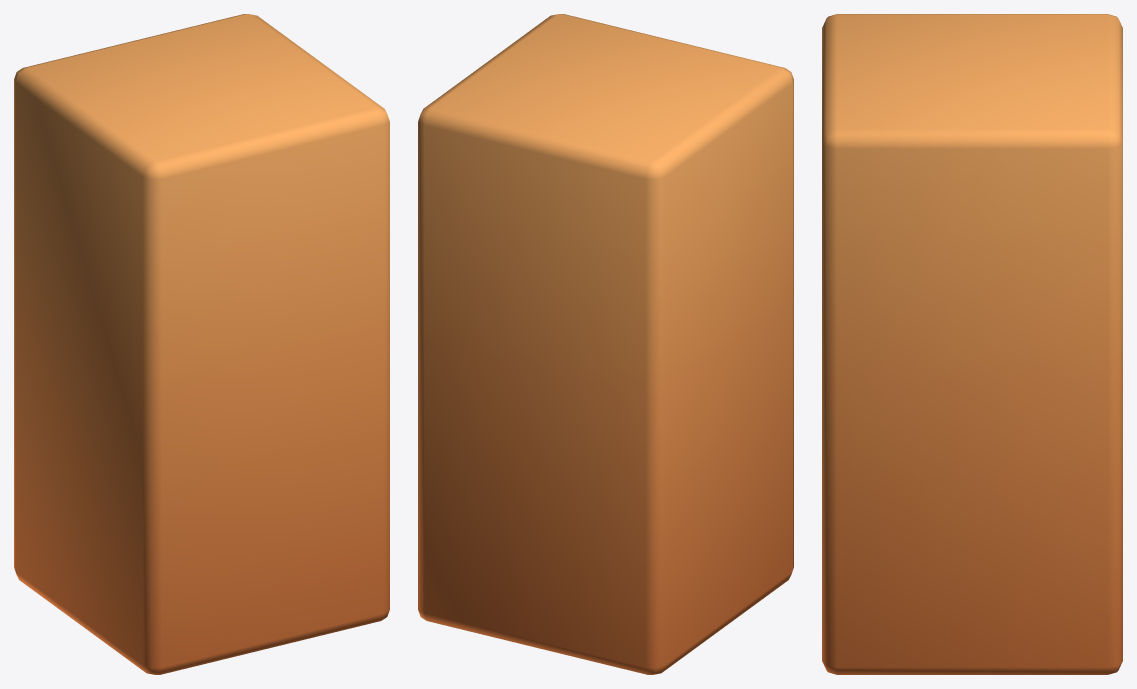
Rendered from 3D_Tile_Ground_02x2.fbx.
The picture shows the model from 3 angles, left to right: view 1: azimuth 30°, elevation 25°; view 2: azimuth 150°, elevation 25°; view 3: azimuth 270°, elevation 25°; orthographic projection. The views are drawn at different scales.
Visible parts, largest first — view 1: 3D_Tile_Ground_02x2; view 2: 3D_Tile_Ground_02x2; view 3: 3D_Tile_Ground_02x2.
Boxes of the visible parts, x1=… form: 3D_Tile_Ground_02x2: x1=14, y1=14, x2=389, y2=674; 3D_Tile_Ground_02x2: x1=418, y1=14, x2=793, y2=674; 3D_Tile_Ground_02x2: x1=822, y1=14, x2=1122, y2=674.
Bounding box in the file's own units: 200 × 400 × 200.
